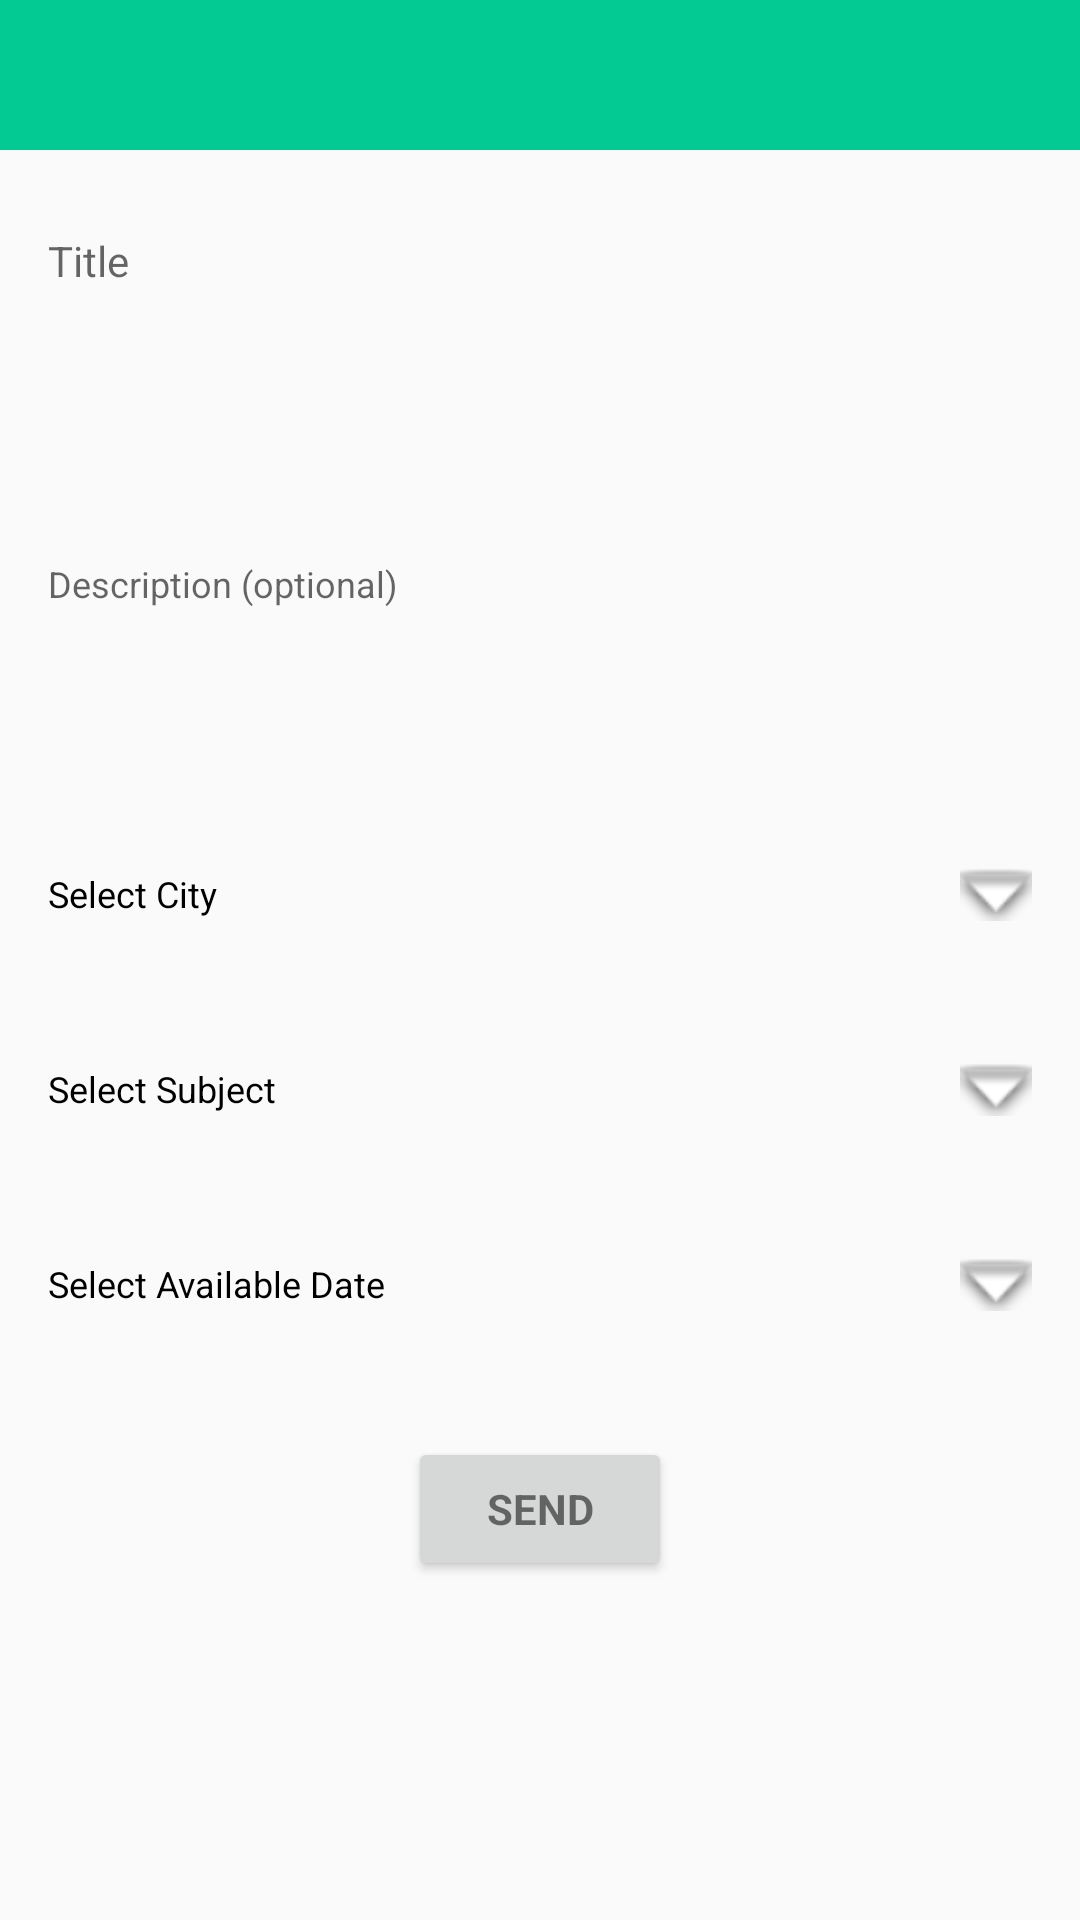

Where to tap for icons on this 1080px x 1920px app screen, as (x,y):
arrow down float: (996,894), (996,1089), (996,1284)
